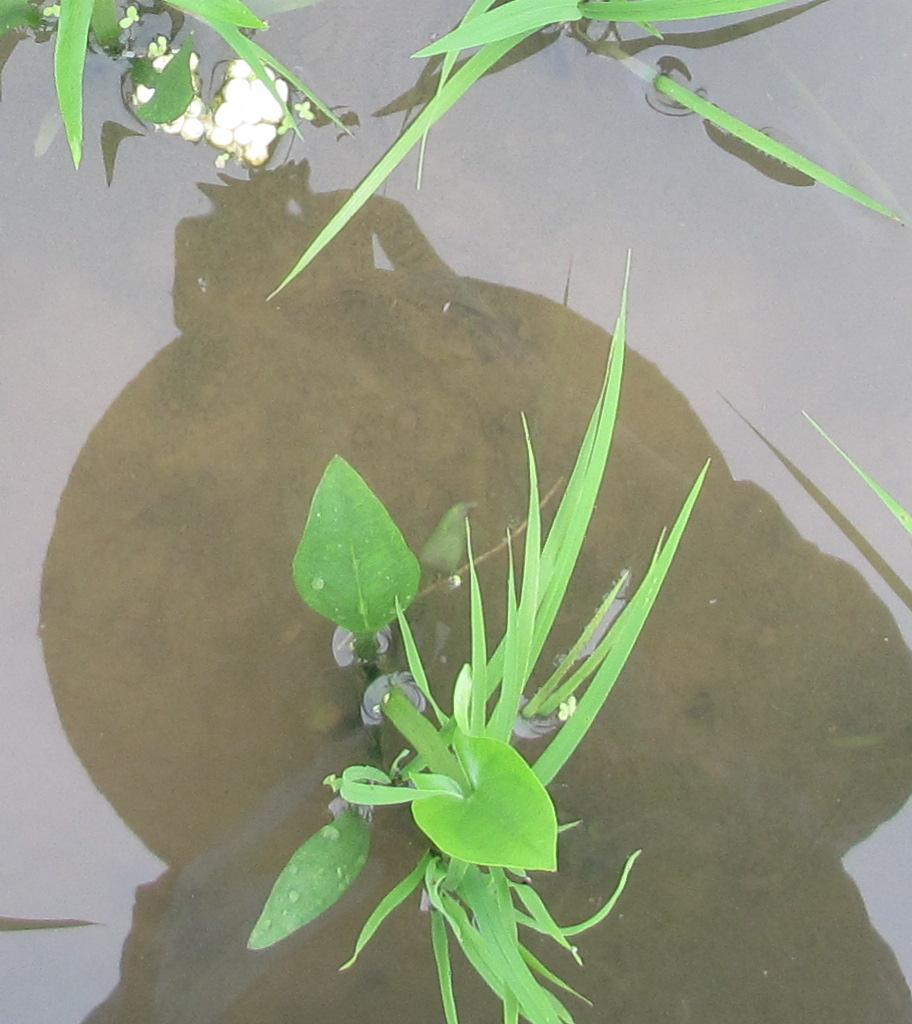Weed: (290, 447, 425, 628), (406, 730, 567, 877)
